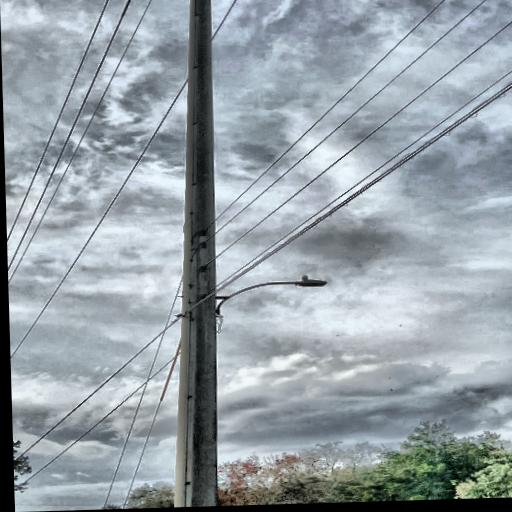pole: (141, 0, 234, 508)
street light: (210, 272, 335, 319)
